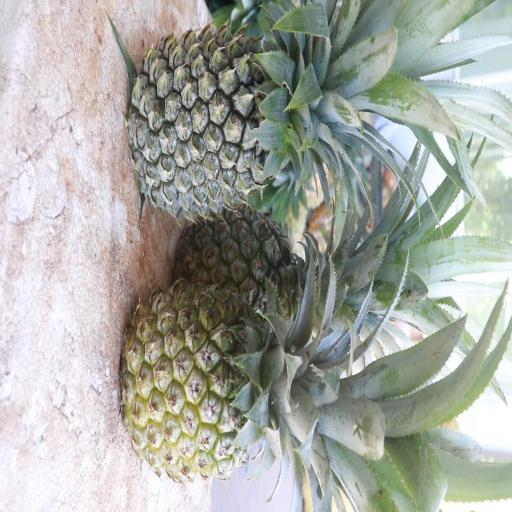------------------------------: (116, 275, 354, 493), (169, 197, 369, 352)
